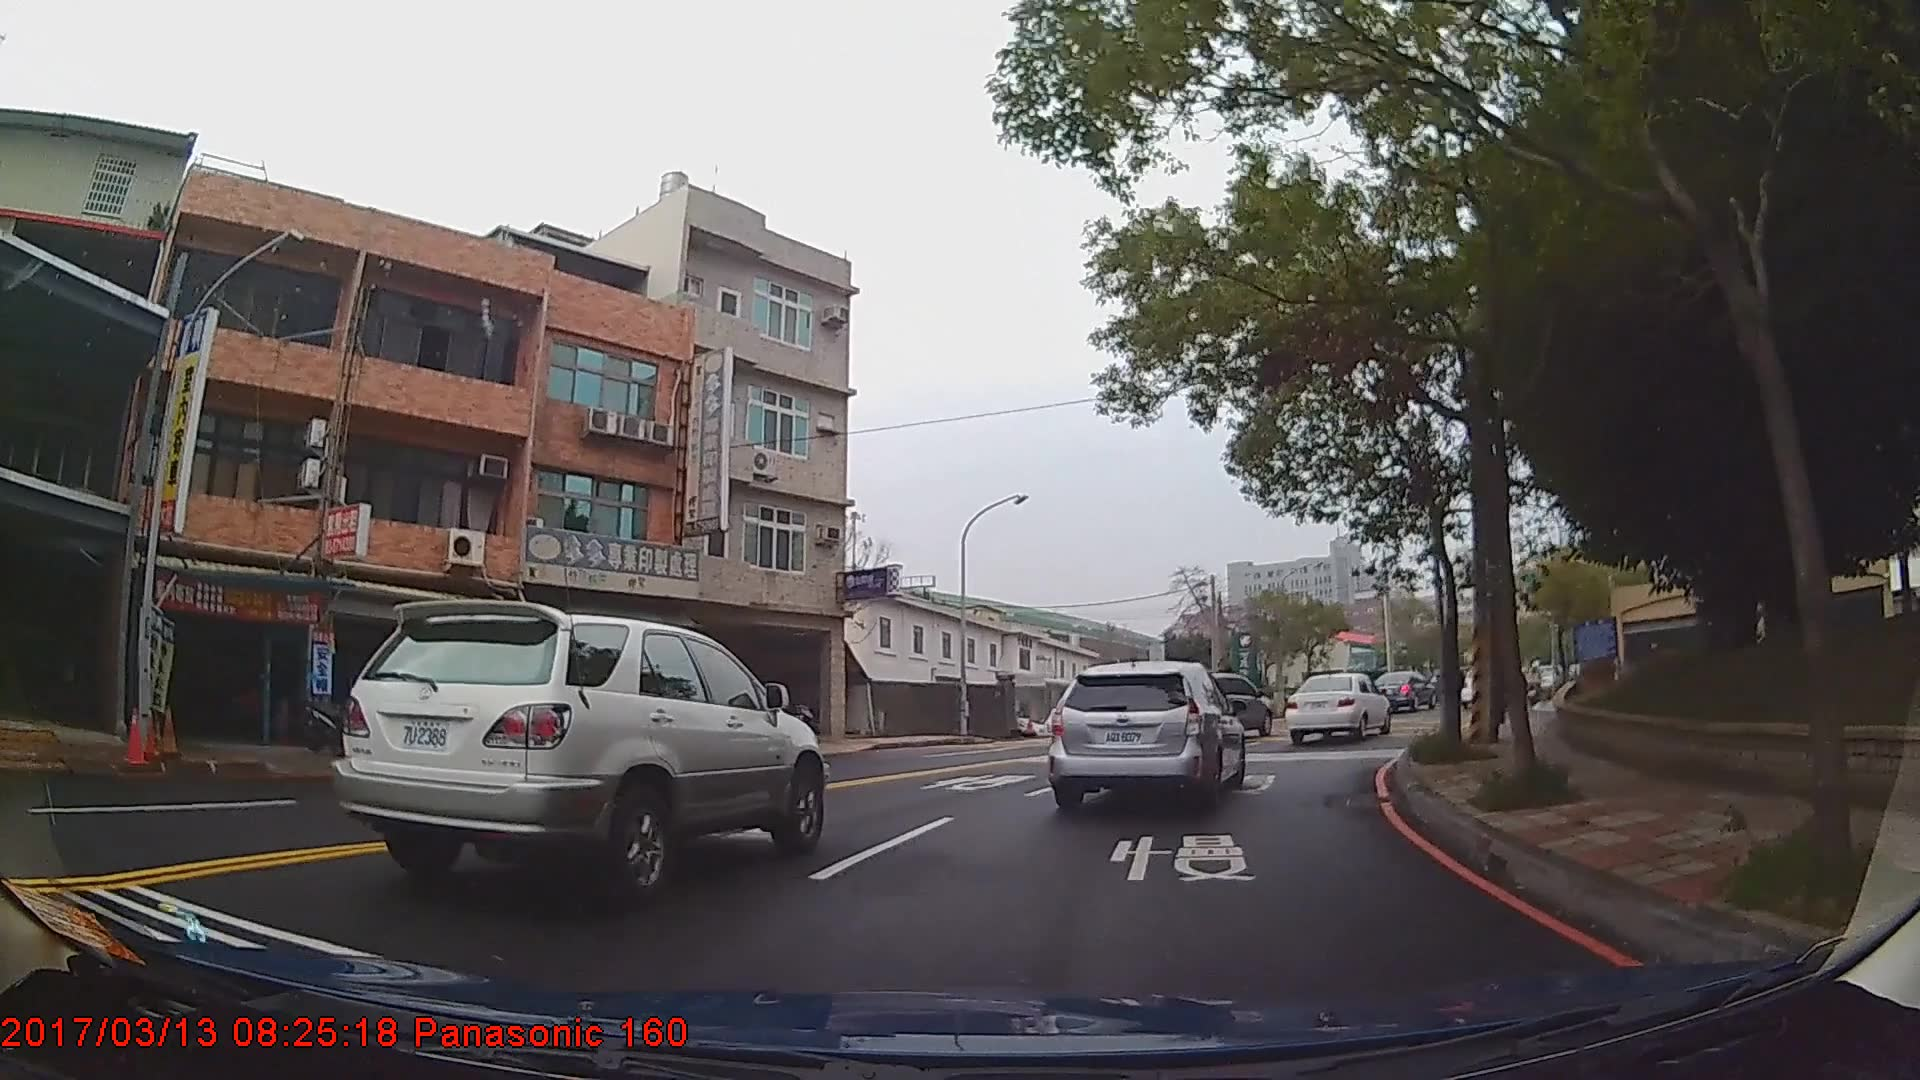vehicle: (328, 600, 825, 906), (1044, 658, 1244, 808), (1280, 671, 1391, 744), (1182, 671, 1273, 744), (1367, 667, 1433, 713)
